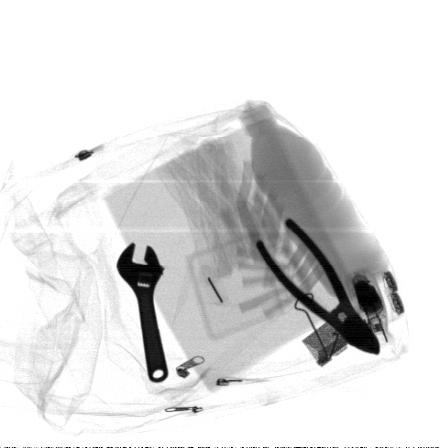Pliers: (253, 216, 380, 356)
Wrench: (116, 243, 168, 383)
